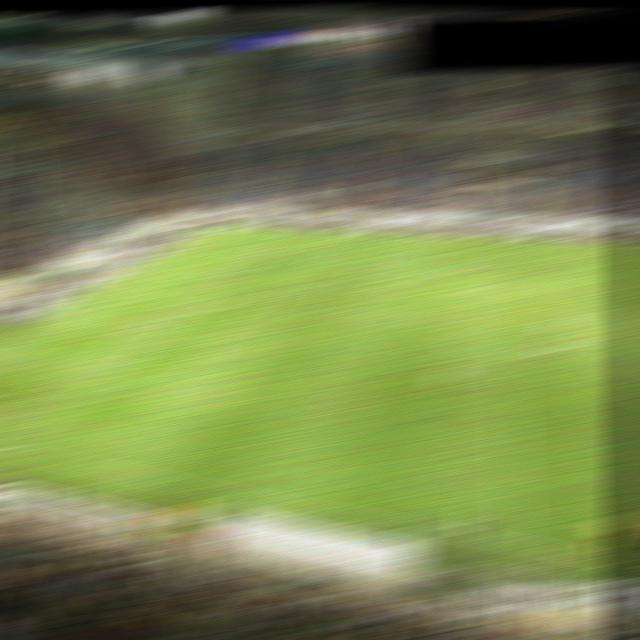bigarea_bottom_inner: (108, 361, 138, 371)
bigarea_bottom_outter: (0, 343, 9, 353)
bigarea_top_inner: (255, 248, 285, 258)
bigarea_top_outter: (166, 244, 196, 254)
bottom_arc_area_intersection: (172, 308, 203, 319)
corner: (203, 223, 234, 234)
halfcircle_bottom: (492, 346, 524, 358)
halfcircle_top: (490, 283, 520, 293)
midline_bottom_intersection: (498, 536, 530, 549)
midline_top_intersection: (488, 234, 518, 244)
smallarea_bottom_inner: (85, 308, 115, 318)
smallarea_bottom_outter: (50, 304, 81, 314)
smallarea_top_inner: (159, 262, 189, 273)
smallarea_top_outter: (132, 261, 162, 271)
top_arc_area_intersection: (222, 271, 253, 282)
